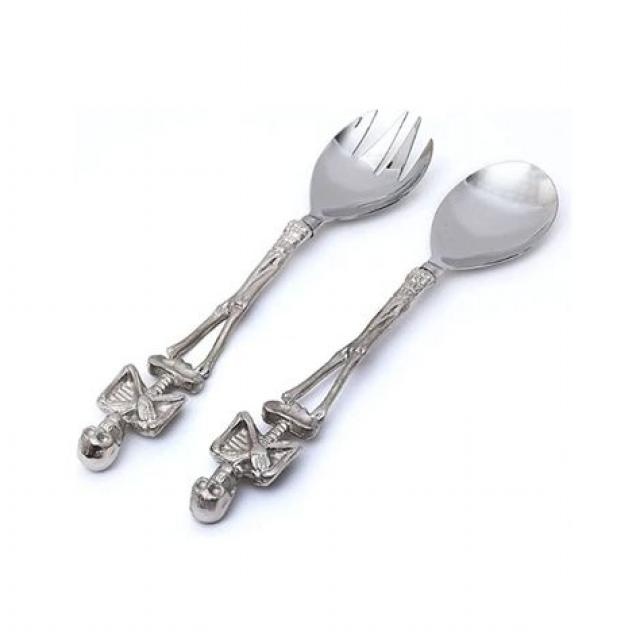fork: (56, 100, 445, 486)
spoon: (174, 154, 578, 532)
